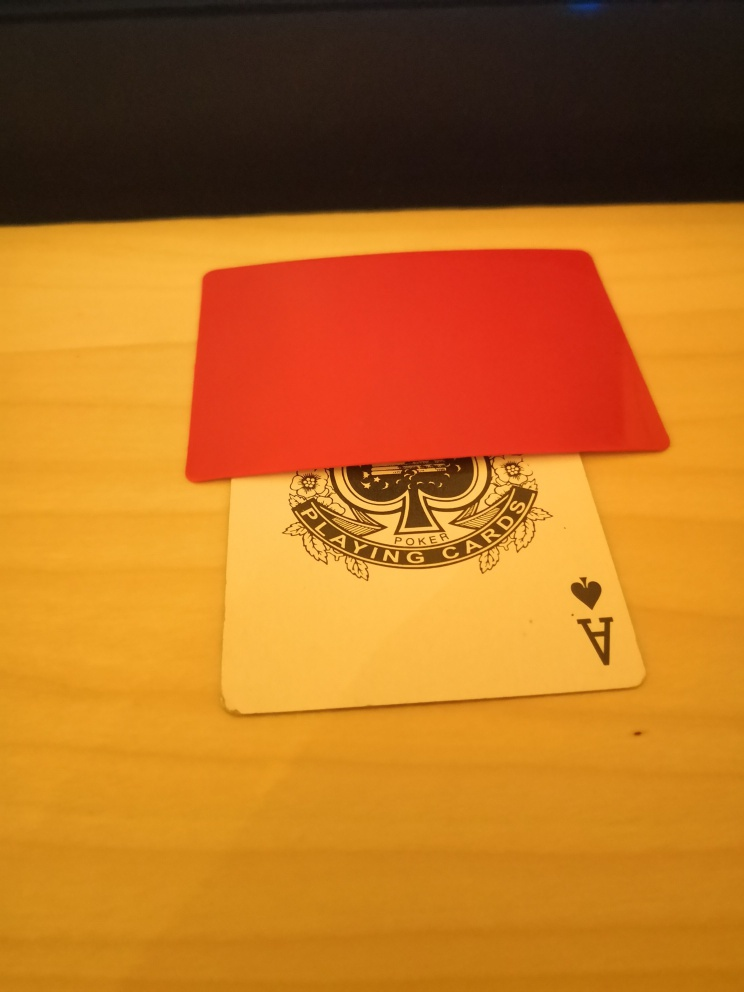ace: (219, 453, 647, 717)
